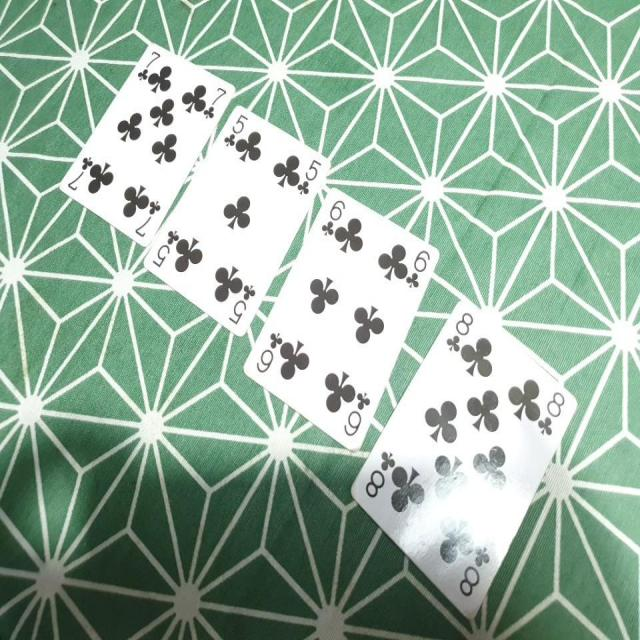5 Trefoils: (141, 104, 332, 341)
6 Trefoils: (241, 186, 441, 452)
7 Trefoils: (57, 40, 236, 250)
8 Trefoils: (350, 301, 577, 617)
